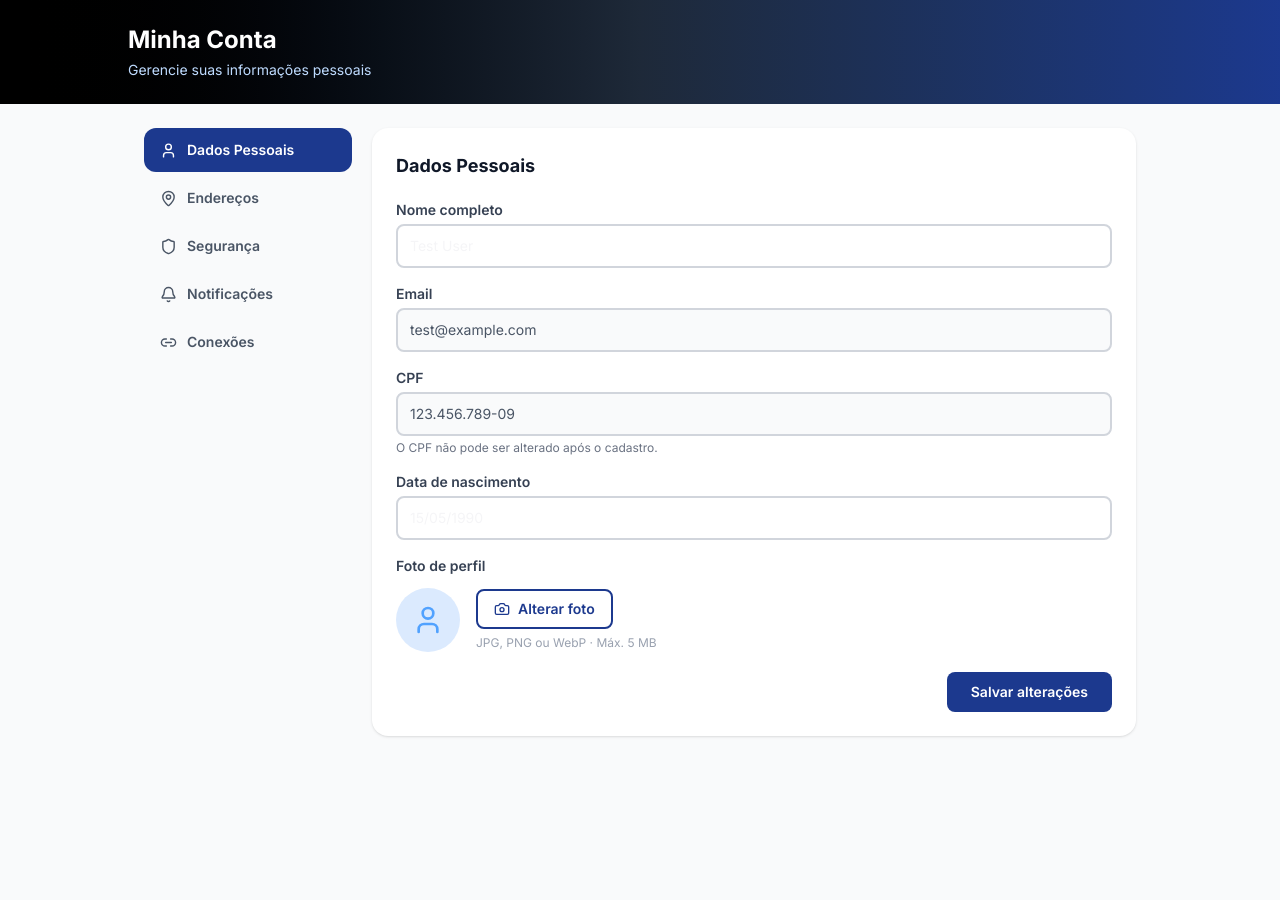
AccountPage - Dados Pessoais › shows success message after successful save
This screenshot has width=1280, height=900.
Click the button "Salvar alterações": (1029, 692) top-left (947, 672), bottom-right (1112, 712)
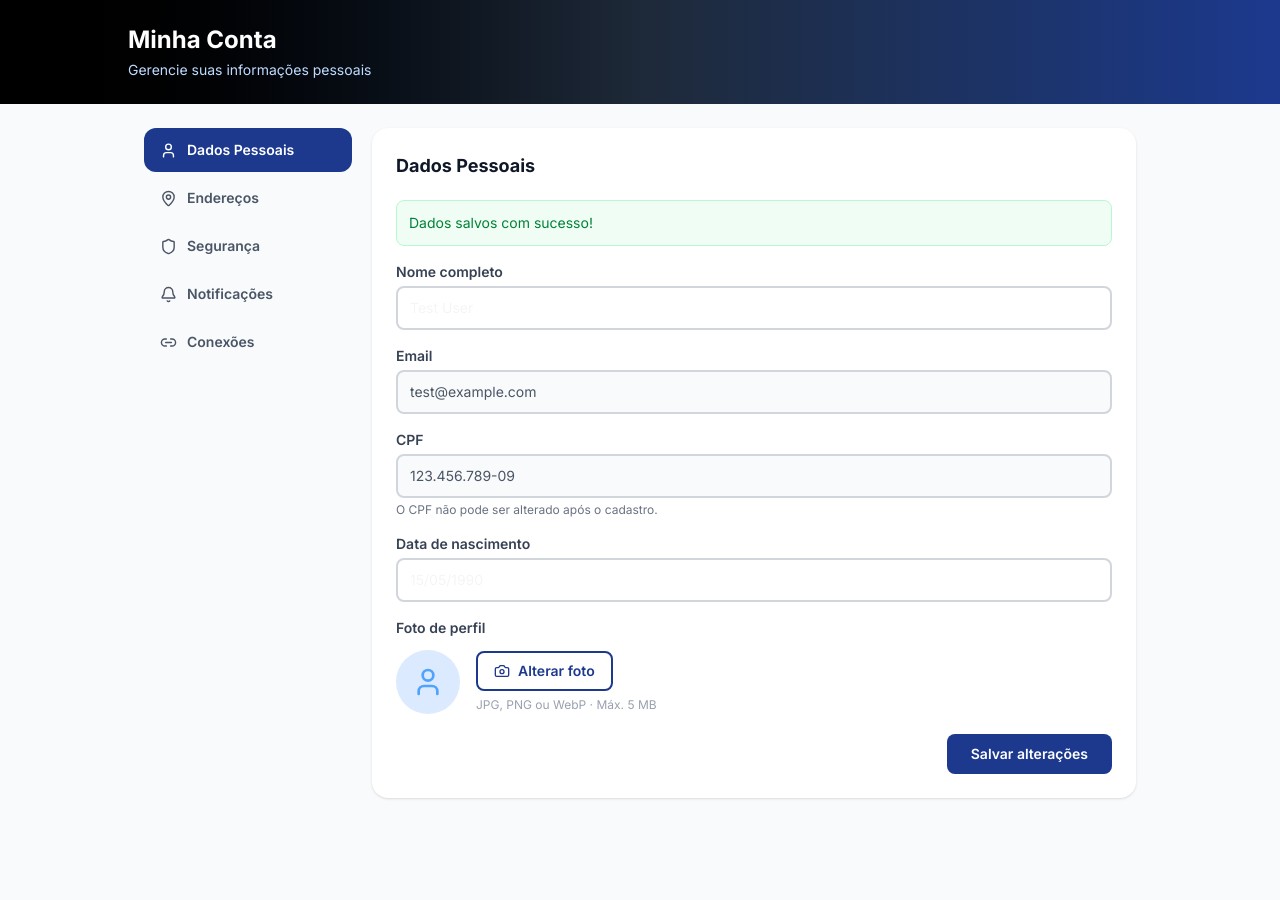
Now the text "Dados salvos com sucesso!" is shown, box top-left (396, 200), bottom-right (1112, 246)
